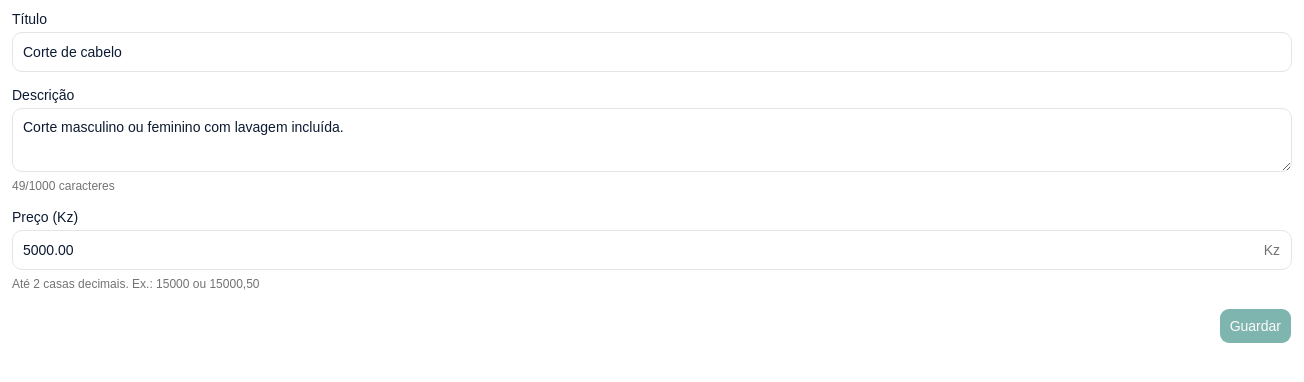
ServiceForm › mostra no campo o erro 400 devolvido pela API
The width and height of the screenshot is (1304, 382).
In the field labelled "Título": (652, 52) left=12, top=32, right=1292, bottom=72, type " novo"
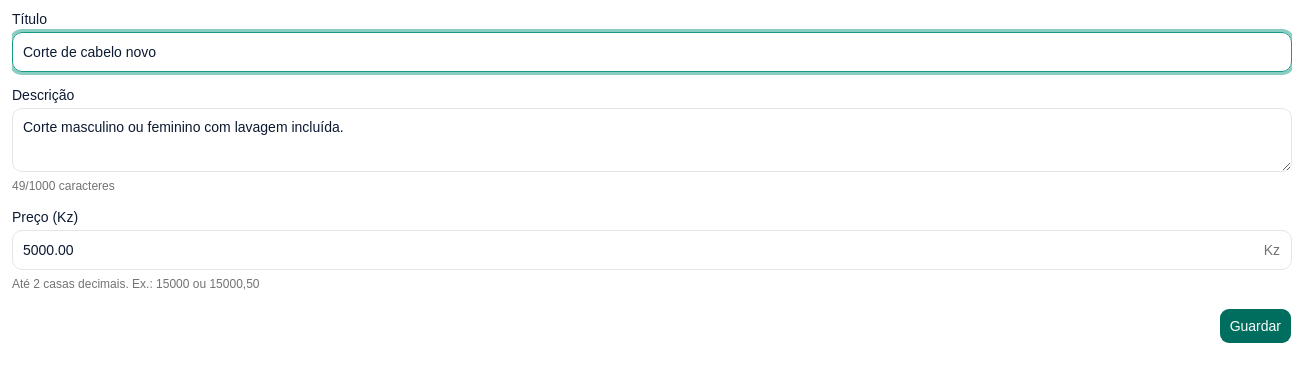
Click the button "Guardar": (1255, 326) left=1219, top=308, right=1292, bottom=344
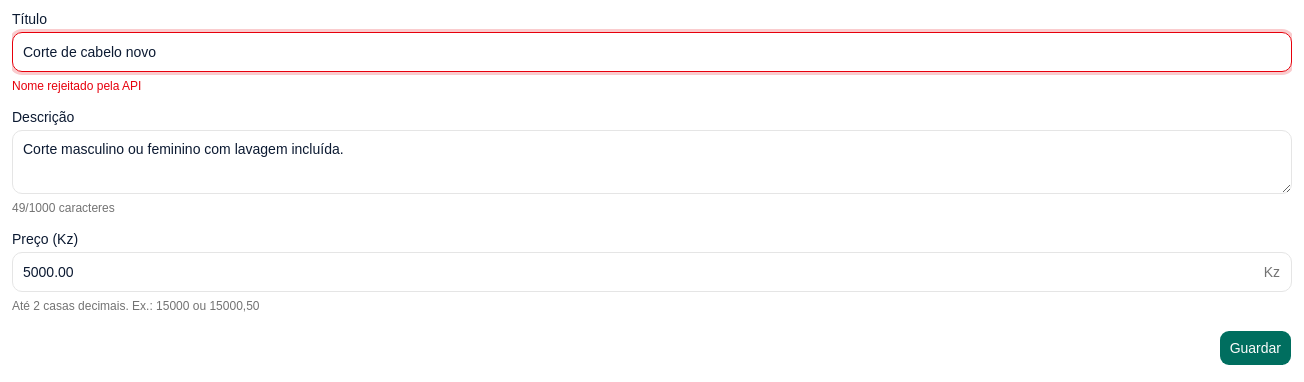
Expected: the text "Nome rejeitado pela API" is shown, left=12, top=79, right=141, bottom=93
